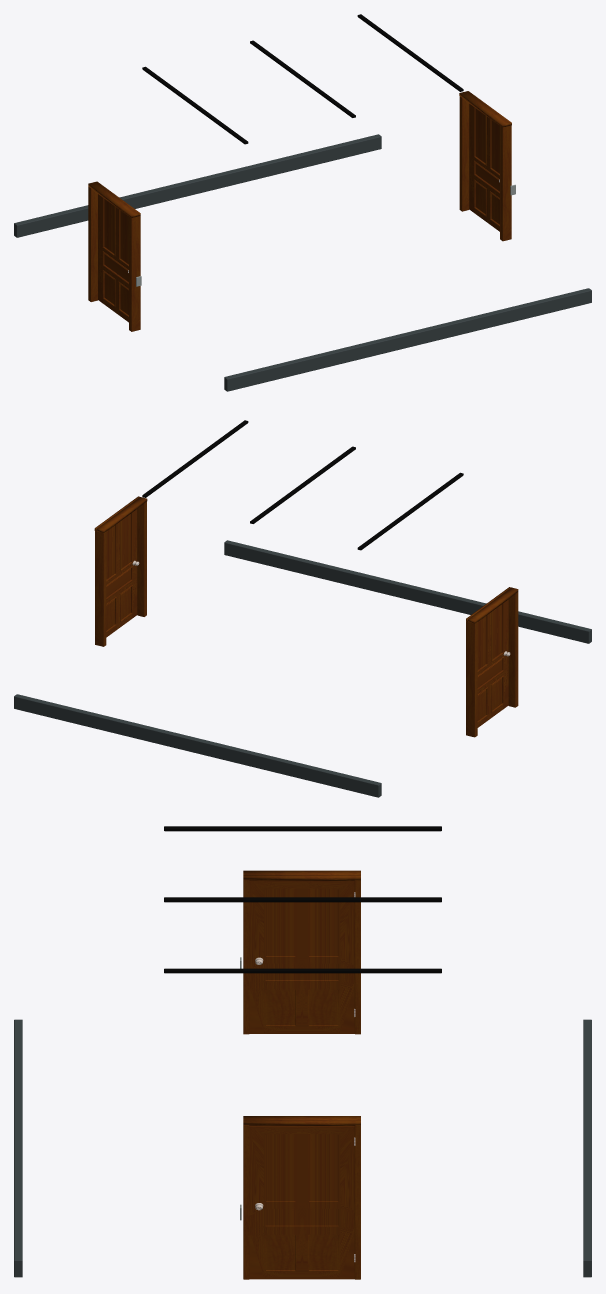
File: SILENT_Room_07_A_Objects.fbx
The picture shows the model from 3 angles, top to bottom: view 1: azimuth 30°, elevation 25°; view 2: azimuth 150°, elevation 25°; view 3: azimuth 270°, elevation 25°; orthographic projection. The views are drawn at different scales.
Parts seen in each view (by area): view 1: Room_07_A_Objects, Hinges.004, Hinges.003; view 2: Room_07_A_Objects, Hinges.003, Hinges.004; view 3: Hinges.004, Hinges.003, Room_07_A_Objects.
Boxes of the visible parts, bbox=[...] form: Room_07_A_Objects: bbox=[14, 14, 591, 391]; Hinges.004: bbox=[459, 91, 511, 241]; Hinges.003: bbox=[88, 181, 140, 331]; Room_07_A_Objects: bbox=[14, 420, 591, 797]; Hinges.003: bbox=[466, 587, 518, 737]; Hinges.004: bbox=[94, 496, 147, 646]; Hinges.004: bbox=[243, 1116, 360, 1279]; Hinges.003: bbox=[243, 870, 360, 1034]; Room_07_A_Objects: bbox=[14, 826, 591, 1277].
Size of the model in its own units: 8.22 by 3.9 by 7.9.
Materials: 9 (2 with a texture image).
